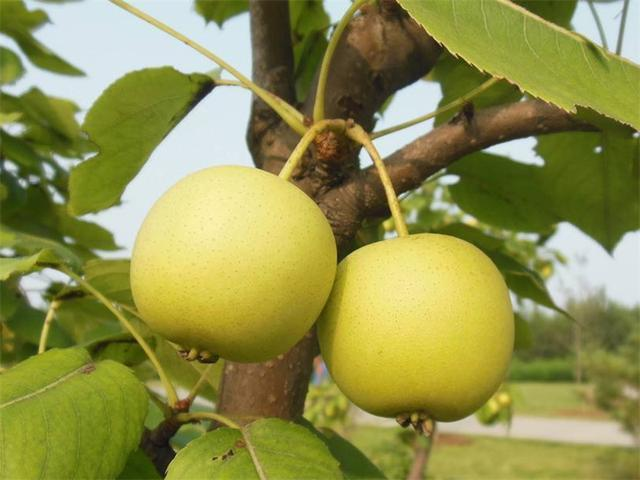apple: (127, 166, 337, 365), (317, 230, 515, 425)
